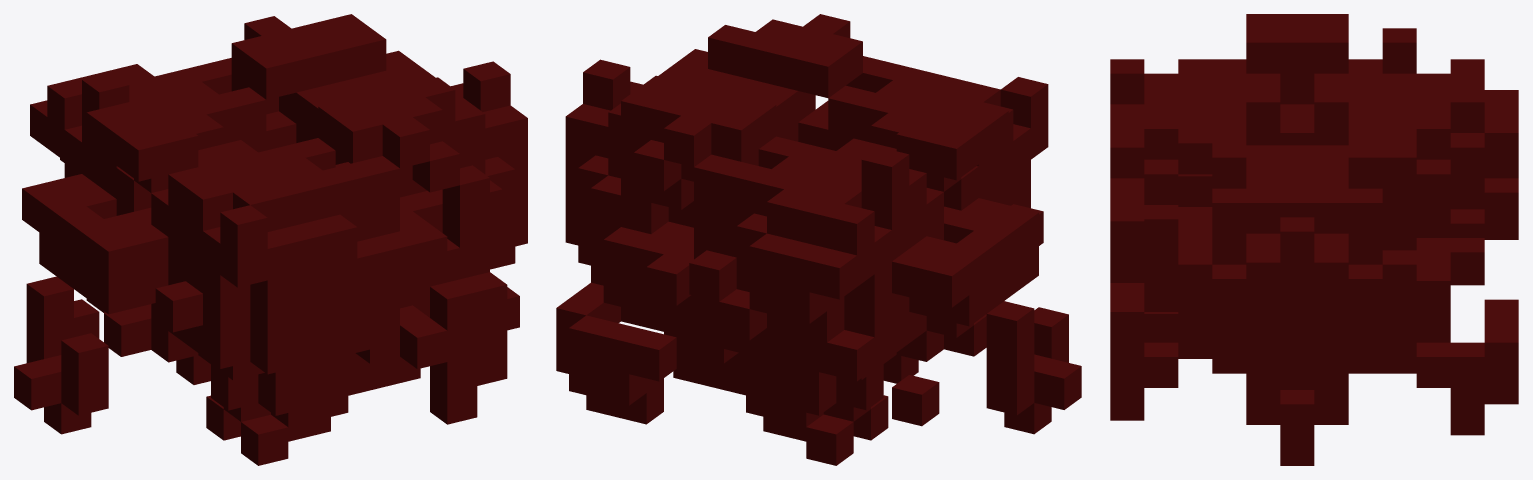
Rendered from bad-10.obj.
3 renders of one model, left to right at view 1: azimuth 30°, elevation 25°; view 2: azimuth 150°, elevation 25°; view 3: azimuth 270°, elevation 25°, orthographic. The views are drawn at different scales.
Bounding box in the file's own units: 1.6 × 1.1 × 1.2.
Materials: 1 (1 with a texture image).
